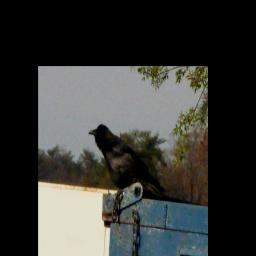Crow: (88, 123, 165, 197)
